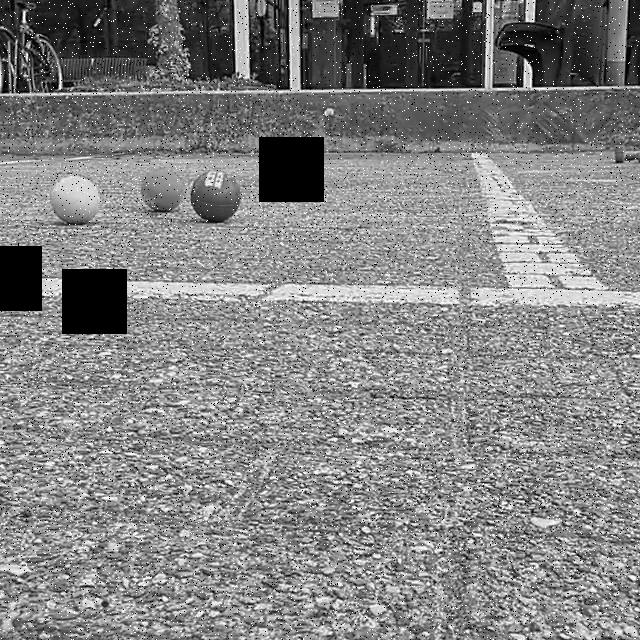ball: (189, 169, 244, 225), (49, 174, 104, 225), (138, 165, 188, 217)
